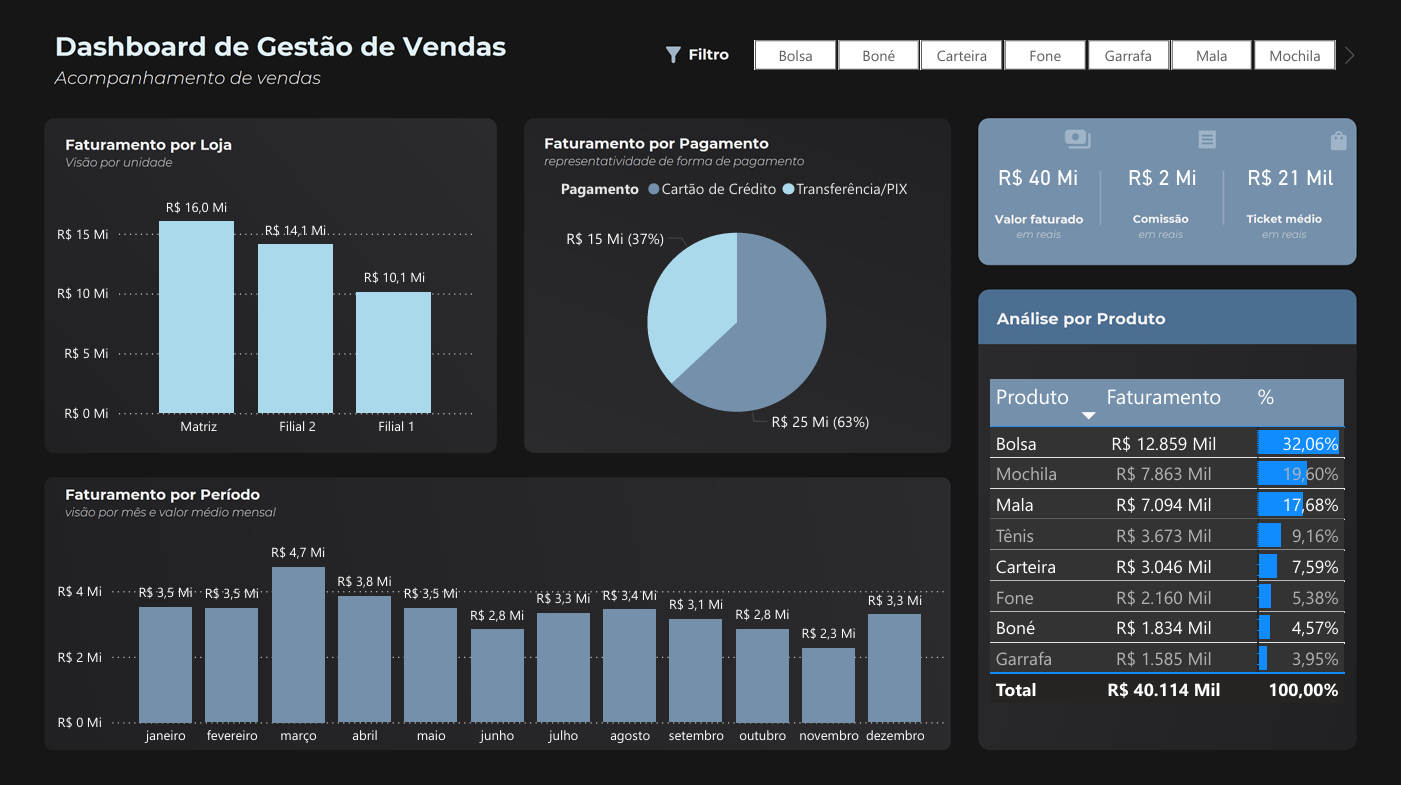

Layout of this report page (visuals, bound fields, positions):
{"tool":"powerbi","page":{"name":"Página 1","canvas":[1280,720],"ordinal":0},"visuals":[{"type":"card","fields":{"Values":["Sum(registroVendas.Valor Venda)"]},"box":[900,132,95,61],"z":0},{"type":"card","fields":{"Values":["Avg(registroVendas.Valor Venda)"]},"box":[1121,108,112,110],"z":1000},{"type":"clusteredColumnChart","title":"Faturamento por Período","fields":{"Category":["registroVendas.Data Pedido.Variation.Hierarquia de datas.Mês"],"Y":["Sum(registroVendas.Valor Venda)"]},"box":[50,481,821,207],"z":2000},{"type":"pieChart","title":"Faturamento por Método de Pagamento","fields":{"Y":["Sum(registroVendas.Valor Venda)"],"Category":["registroVendas.Pagamento"]},"box":[486,153,375,254],"z":3000},{"type":"clusteredColumnChart","title":"Faturamento por Loja","fields":{"Y":["Sum(registroVendas.Valor Venda)"],"Category":["lojas.nome_loja"]},"box":[50,163,391,244],"z":4000},{"type":"tableEx","fields":{"Values":["registroVendas.Produto","Sum(registroVendas.Valor Venda)","Divide(Sum(registroVendas.Valor Venda), ScopedEval(Sum(registroVendas.Valor Venda), []))"]},"box":[898,341,333,312],"z":5000},{"type":"slicer","fields":{"Values":["registroVendas.Produto"]},"box":[664,31,578,39],"z":6000},{"type":"card","fields":{"Values":["registroVendas.comissao"]},"box":[993,132,135,61],"z":6001}]}

Visuals, with their boxes in screenshot pixels (x1, y1, x2, y2), scaled from the page's 1280x720 canvas onto the 1401x785 screenshot:
card - Sum(registroVendas.Valor Venda): [985,144,1089,210]
card - Avg(registroVendas.Valor Venda): [1227,118,1350,238]
"Faturamento por Período" clusteredColumnChart: [55,524,953,750]
"Faturamento por Método de Pagamento" pieChart: [532,167,942,444]
"Faturamento por Loja" clusteredColumnChart: [55,178,483,444]
tableEx - registroVendas.Produto x Sum(registroVendas.Valor Venda): [983,372,1347,712]
slicer - registroVendas.Produto: [727,34,1359,76]
card - registroVendas.comissao: [1087,144,1235,210]
